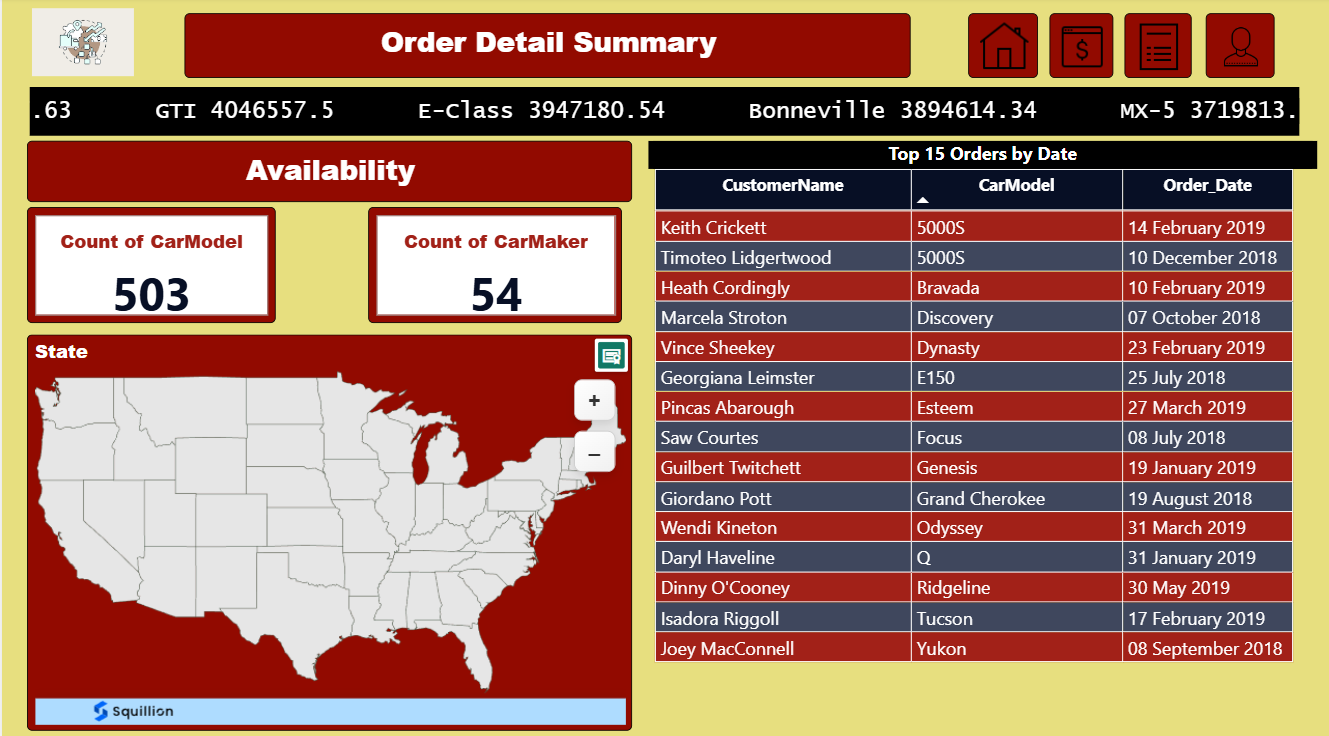

The page's visual inventory and layout, read from the dashboard file:
{"tool":"powerbi","page":{"name":"Orders","canvas":[1280,720],"ordinal":1},"visuals":[{"type":"textbox","box":[176.1,15.7,700.9,62.7],"z":0},{"type":"cardVisual","fields":{"Data":["Count(cars_data.CarModel)"]},"box":[24.4,202.7,239.9,111.6],"z":1000},{"type":"cardVisual","fields":{"Data":["Count(cars_data.CarMaker)"]},"box":[354.1,202.7,245,111.6],"z":2000},{"type":"textbox","box":[24.1,138.7,583.9,59.1],"z":3000},{"type":"MapBySquillion","fields":{"measure":["Sum(cars_data.Sales)"],"category":["cars_data.State"]},"box":[24.1,325.7,583.9,382.4],"z":4000},{"type":"tableEx","title":"Top 15 Orders by Date","fields":{"Values":["cars_data.CustomerName","cars_data.CarModel","DateMaster.Order_Date"]},"box":[623.7,138.7,645.4,518.8],"z":5000},{"type":"ScrollingTextVisual1448795304508","fields":{"Measure Absolute":["Sum(cars_data.CarPrice)"],"Category":["cars_data.CarModel"]},"box":[21.6,81.8,1235.6,57.1],"z":6000},{"type":"image","box":[24.1,3.6,108.6,79.6],"z":7000},{"type":"image","box":[1011,15.7,61.5,62.7],"z":8000},{"type":"image","box":[932.6,15.7,67.6,62.7],"z":9000},{"type":"image","box":[1083.4,15.7,65.1,62.7],"z":10000},{"type":"image","box":[1161.8,15.7,66.4,62.7],"z":11000}]}

Visuals, with their boxes in screenshot pixels (x1, y1, x2, y2), scaled from the page's 1280x720 canvas onto the 1329x736 screenshot:
textbox: [183,16,911,80]
cardVisual - Count(cars_data.CarModel): [25,207,274,321]
cardVisual - Count(cars_data.CarMaker): [368,207,622,321]
textbox: [25,142,631,202]
MapBySquillion - Sum(cars_data.Sales) x cars_data.State: [25,333,631,724]
"Top 15 Orders by Date" tableEx: [648,142,1318,672]
ScrollingTextVisual1448795304508 - Sum(cars_data.CarPrice) x cars_data.CarModel: [22,84,1305,142]
image: [25,4,138,85]
image: [1050,16,1114,80]
image: [968,16,1038,80]
image: [1125,16,1192,80]
image: [1206,16,1275,80]
